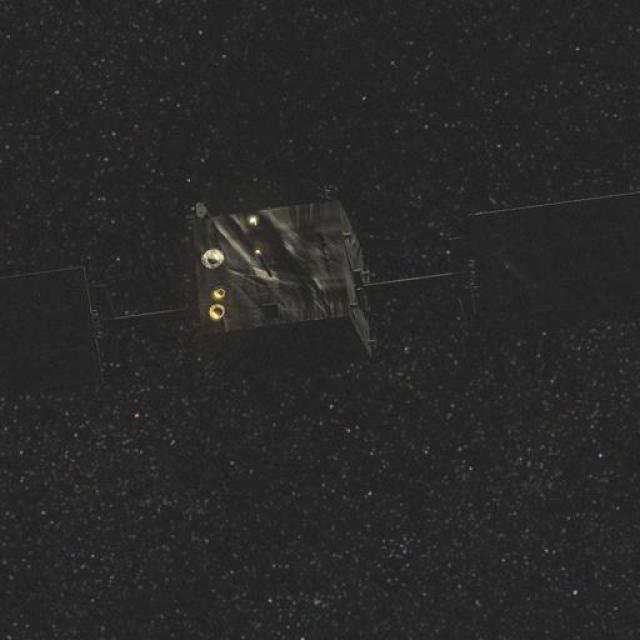smart_1: (61, 177, 482, 391)
